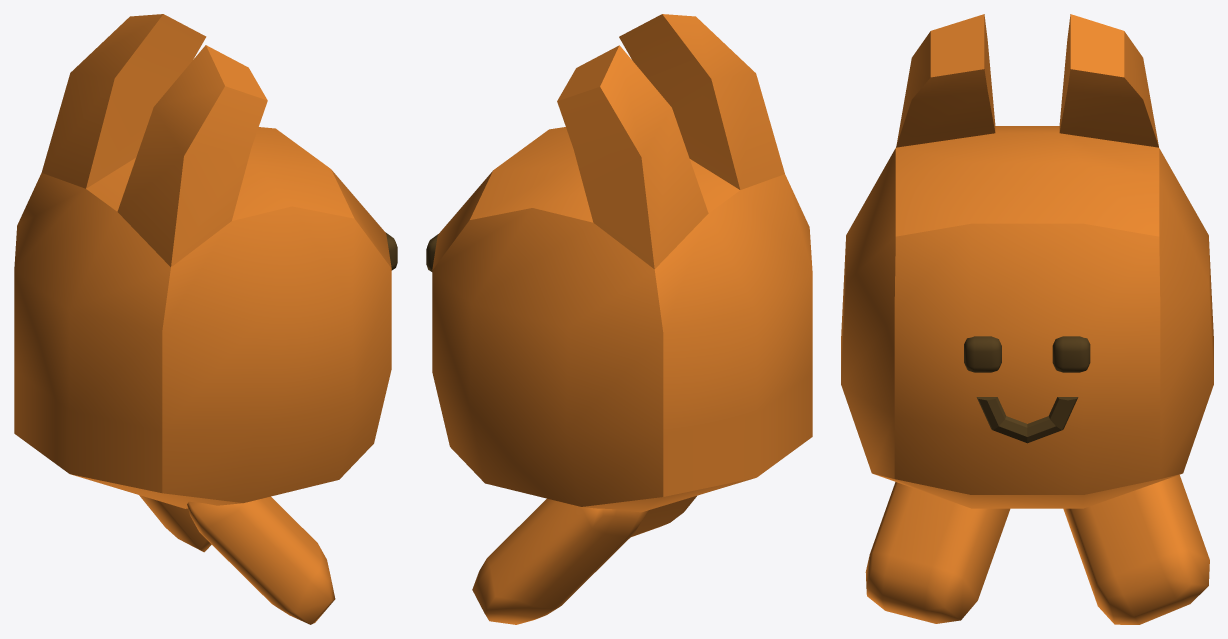
File: body.fbx
The picture shows the model from 3 angles, left to right: view 1: azimuth 30°, elevation 25°; view 2: azimuth 150°, elevation 25°; view 3: azimuth 270°, elevation 25°; orthographic projection.
Parts seen in each view (by area): view 1: pCube1, pCube3, pCube2; view 2: pCube1, pCube2, pCube3; view 3: pCube1, pCube2, pCube3, pTorus1, pCube7, pCube8.
Part boxes in pixels (x1,y1,x2,y2): pCube1: [14, 14, 391, 508]; pCube3: [187, 496, 335, 624]; pCube2: [139, 495, 211, 552]; pCube1: [432, 14, 812, 512]; pCube2: [472, 498, 648, 624]; pCube3: [631, 496, 696, 536]; pCube1: [841, 14, 1213, 508]; pCube2: [1063, 475, 1209, 624]; pCube3: [865, 482, 1010, 623]; pTorus1: [976, 397, 1078, 443]; pCube7: [1052, 336, 1090, 372]; pCube8: [964, 336, 1001, 372].
Size of the model in its own units: 4.08 by 6.75 by 3.94.
